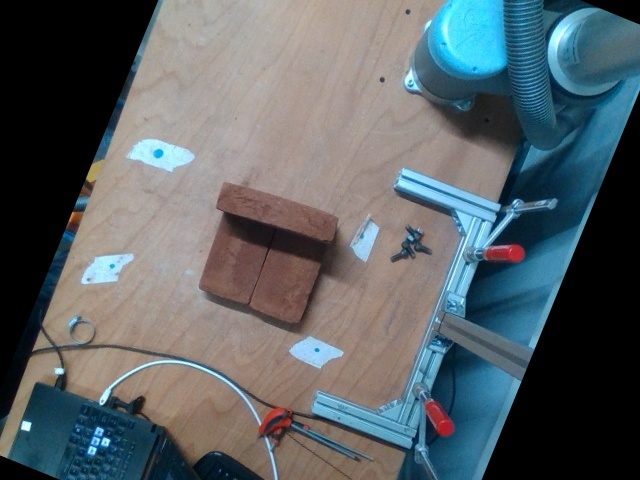brick-side: (220, 183, 339, 243)
